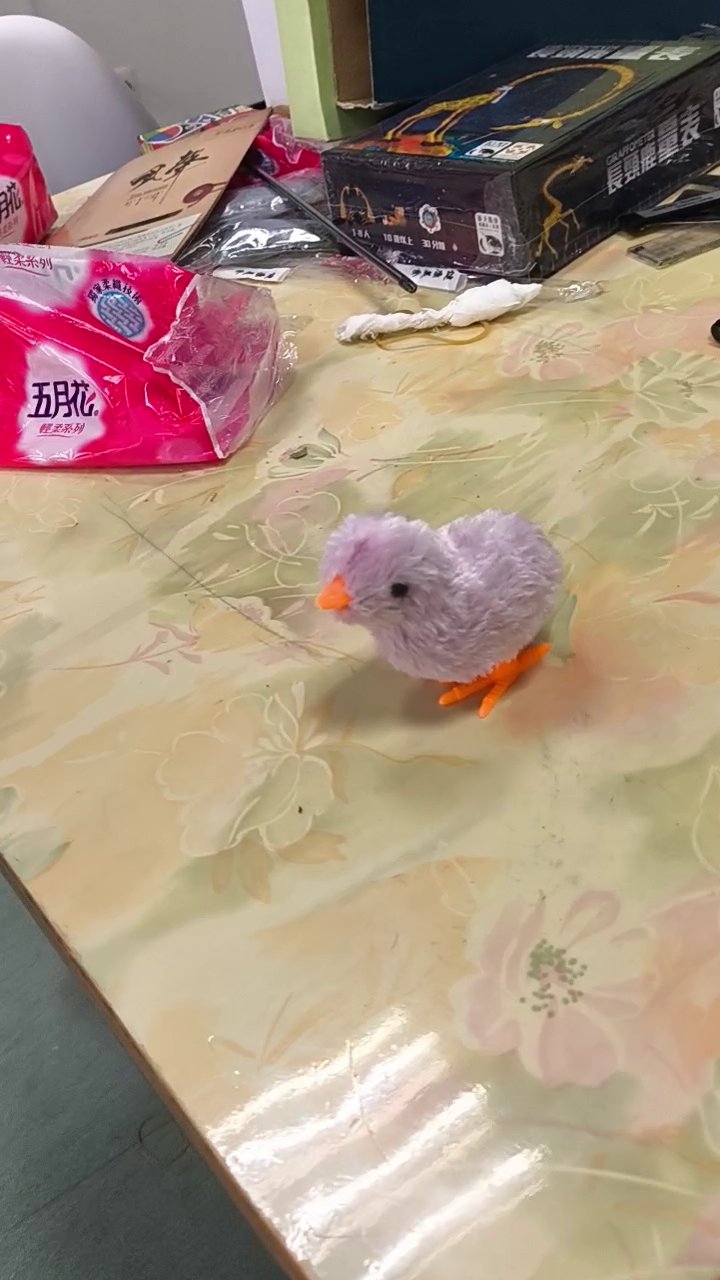pink chicken: (309, 503, 567, 723)
